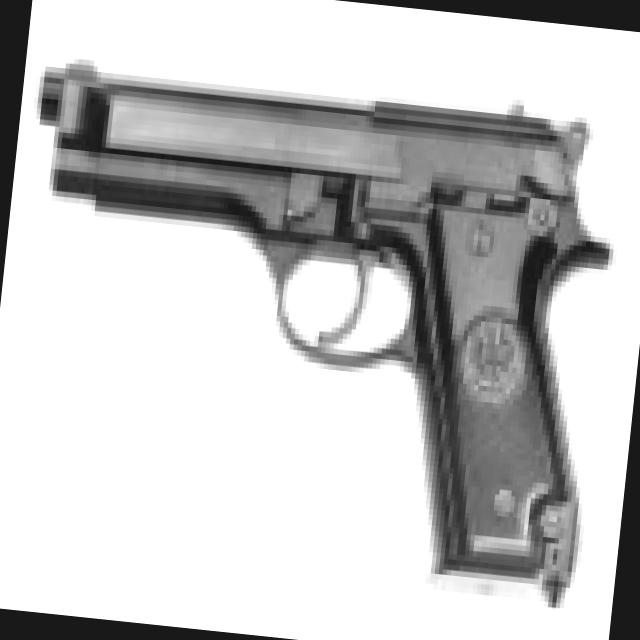handgun: (0, 39, 630, 595)
